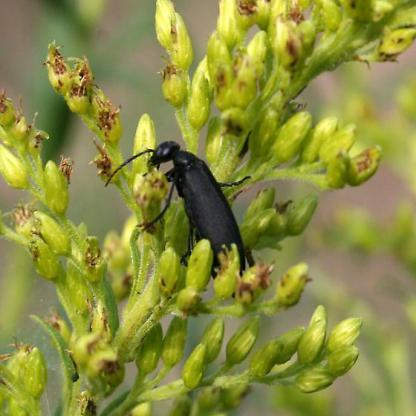beetle: (131, 127, 266, 282)
